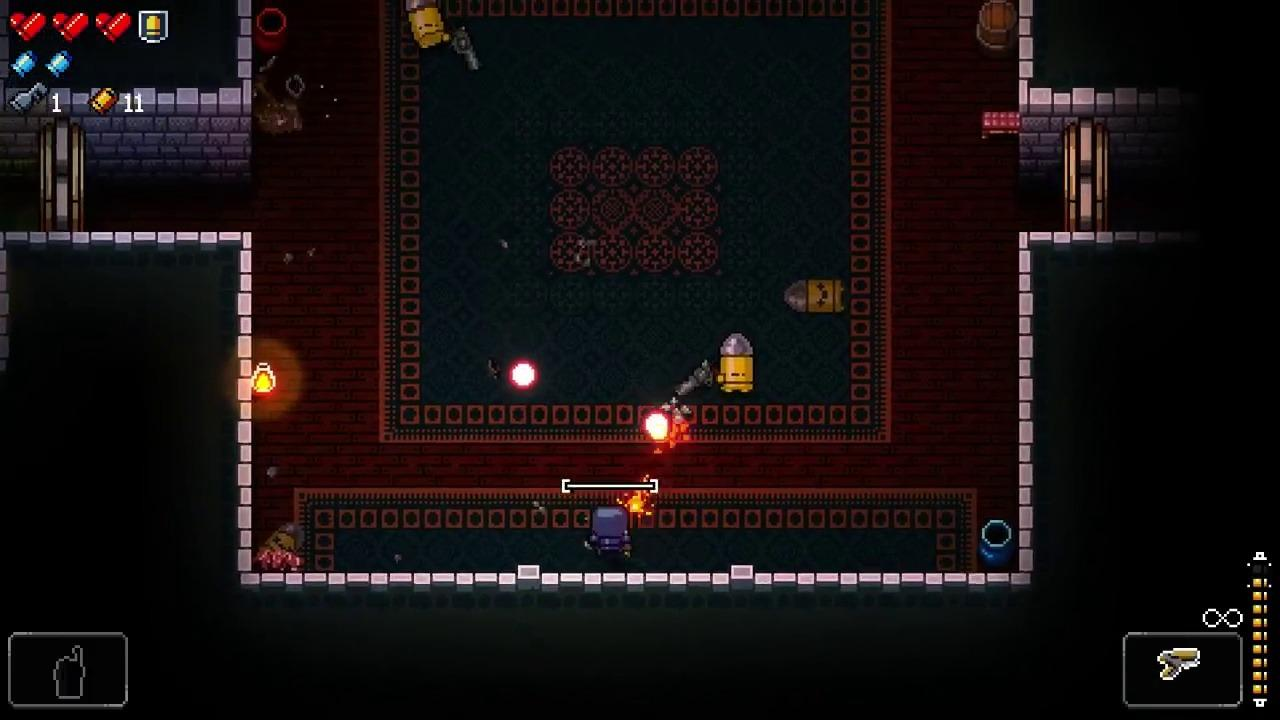bullet: (510, 358, 538, 390), (642, 410, 673, 438)
bullet_kin: (719, 333, 754, 393), (406, 0, 445, 49)
dead_bullet_kin: (257, 524, 305, 563), (785, 281, 845, 312)
locked_door: (1062, 116, 1108, 232), (40, 119, 85, 233)
player: (592, 506, 630, 556)
